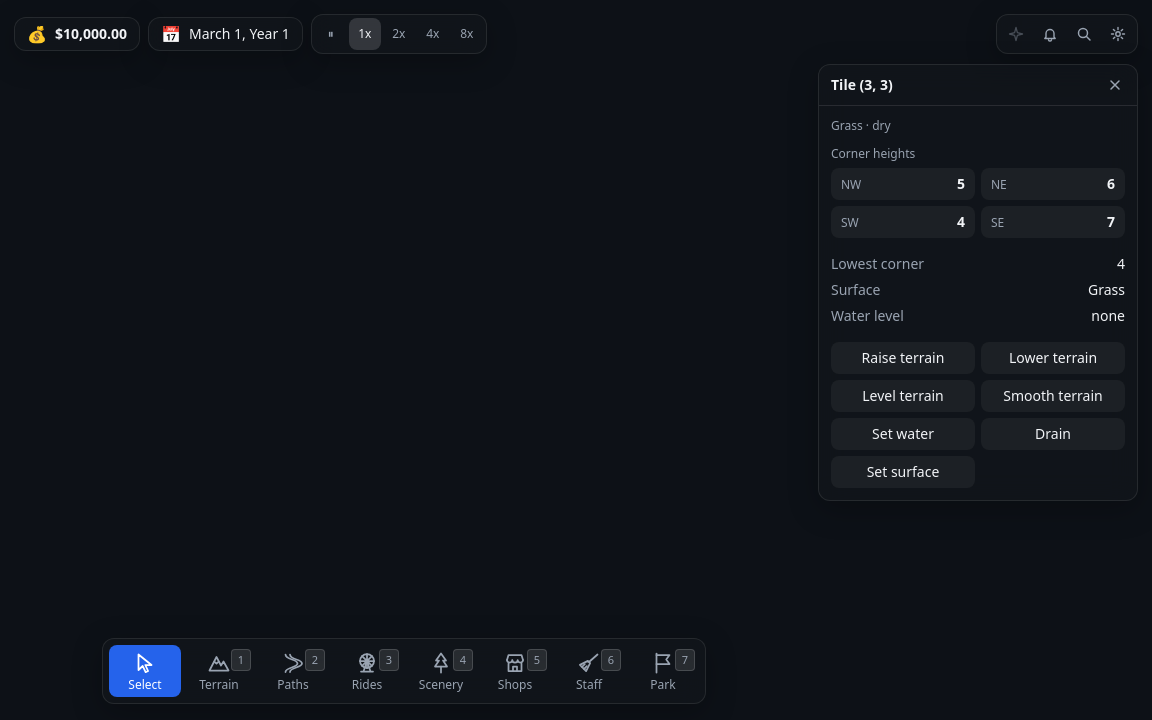
it: the status pills open the inspector › the Park tray's buttons open the inspector on the park too
The image size is (1152, 720).
Press 7
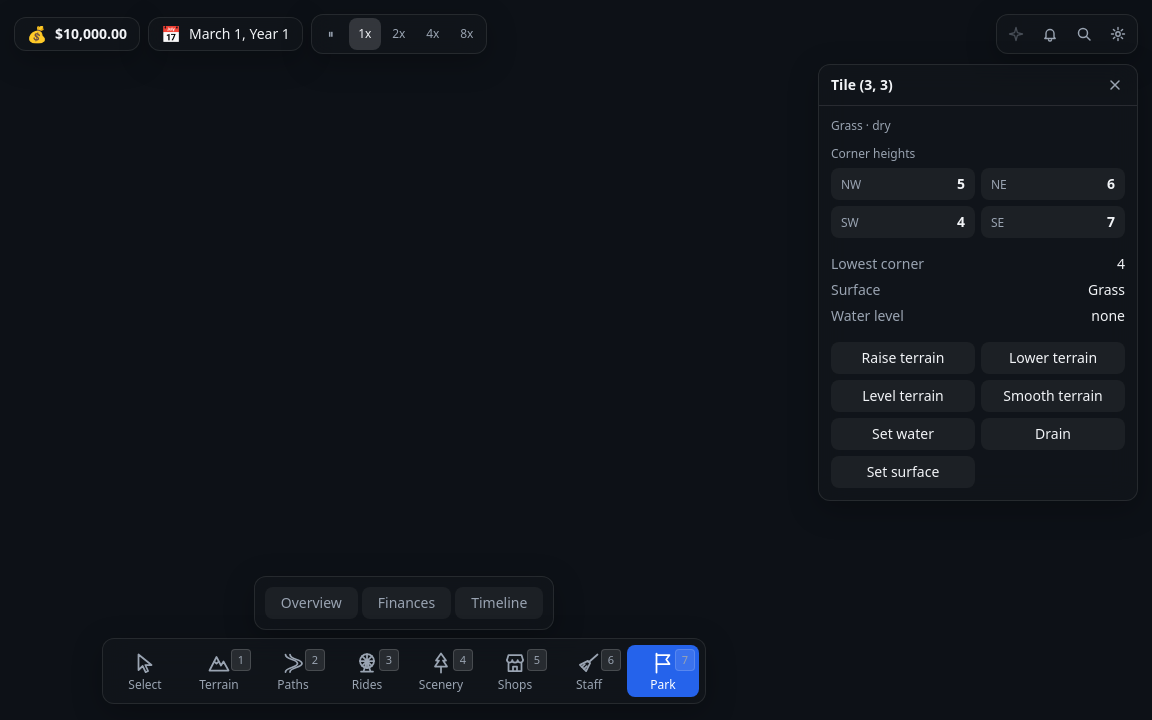
Click the button "Timeline".
click(499, 603)  # box 455,587 -> 543,619
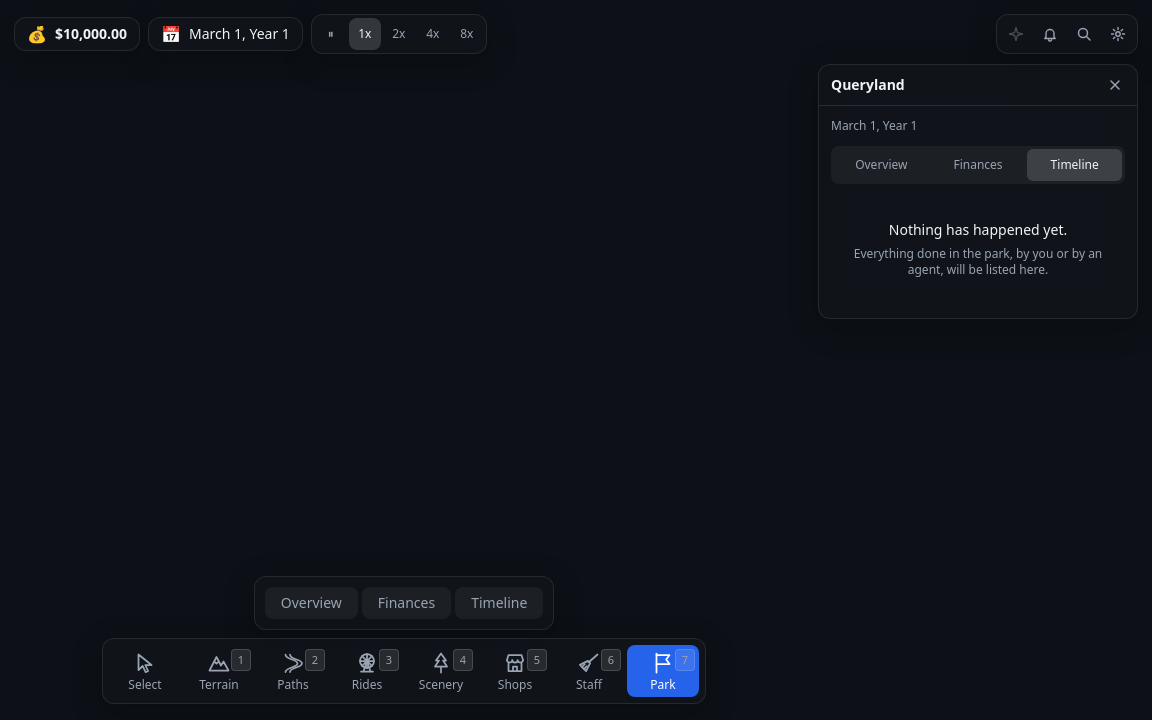
Result: the text "Nothing has happened yet." is shown at 889,220 -> 1067,240
